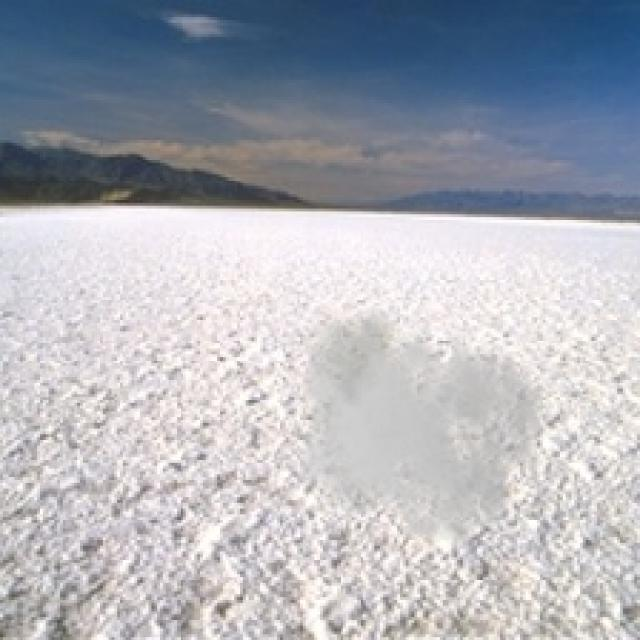Smoke: (288, 303, 546, 552)
